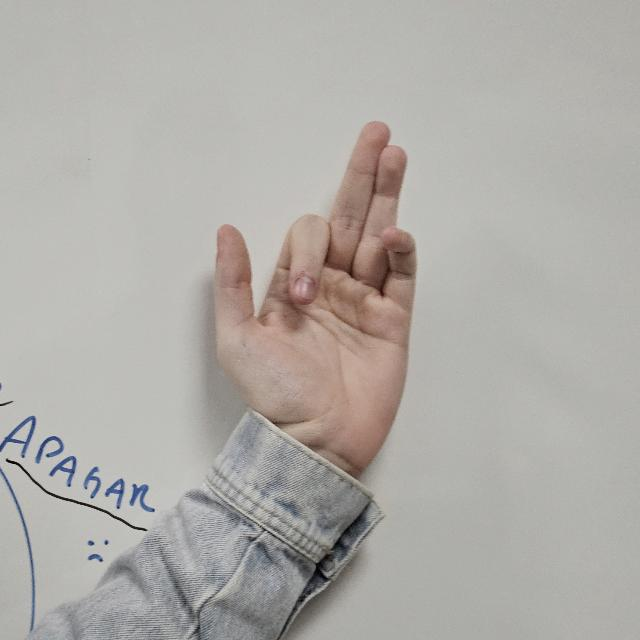R: (214, 118, 416, 464)
